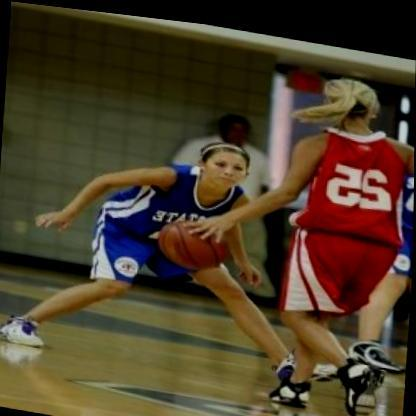basketball: (154, 206, 234, 273)
